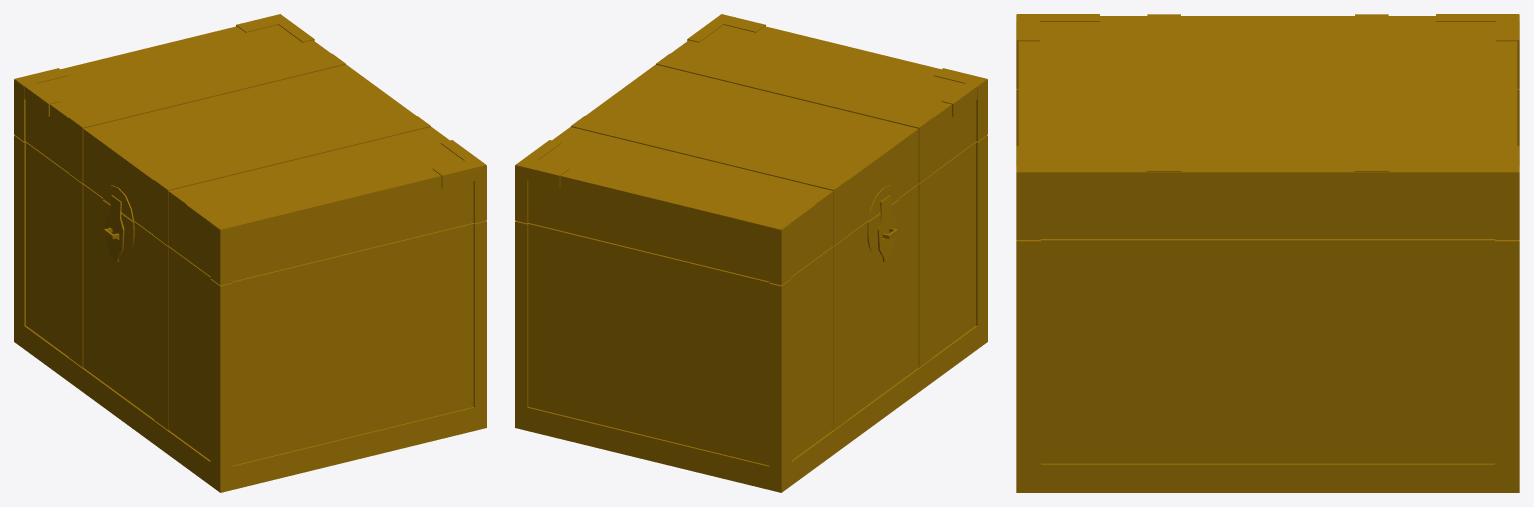
Rendered from Chest_Separated.fbx.
3 views of the same model, side by side, from view 1: azimuth 30°, elevation 25°; view 2: azimuth 150°, elevation 25°; view 3: azimuth 270°, elevation 25° (orthographic). The views are drawn at different scales.
Parts seen in each view (by area): view 1: Bot, Top; view 2: Bot, Top; view 3: Bot, Top.
Boxes of the visible parts, x1,y1,x2,y2 form: Bot: (14,135,486,492); Top: (14,14,486,285); Bot: (515,135,987,492); Top: (515,14,987,285); Bot: (1016,89,1519,492); Top: (1016,14,1519,239).
Size of the model in its own units: 1.64 by 1.5 by 2.13.
